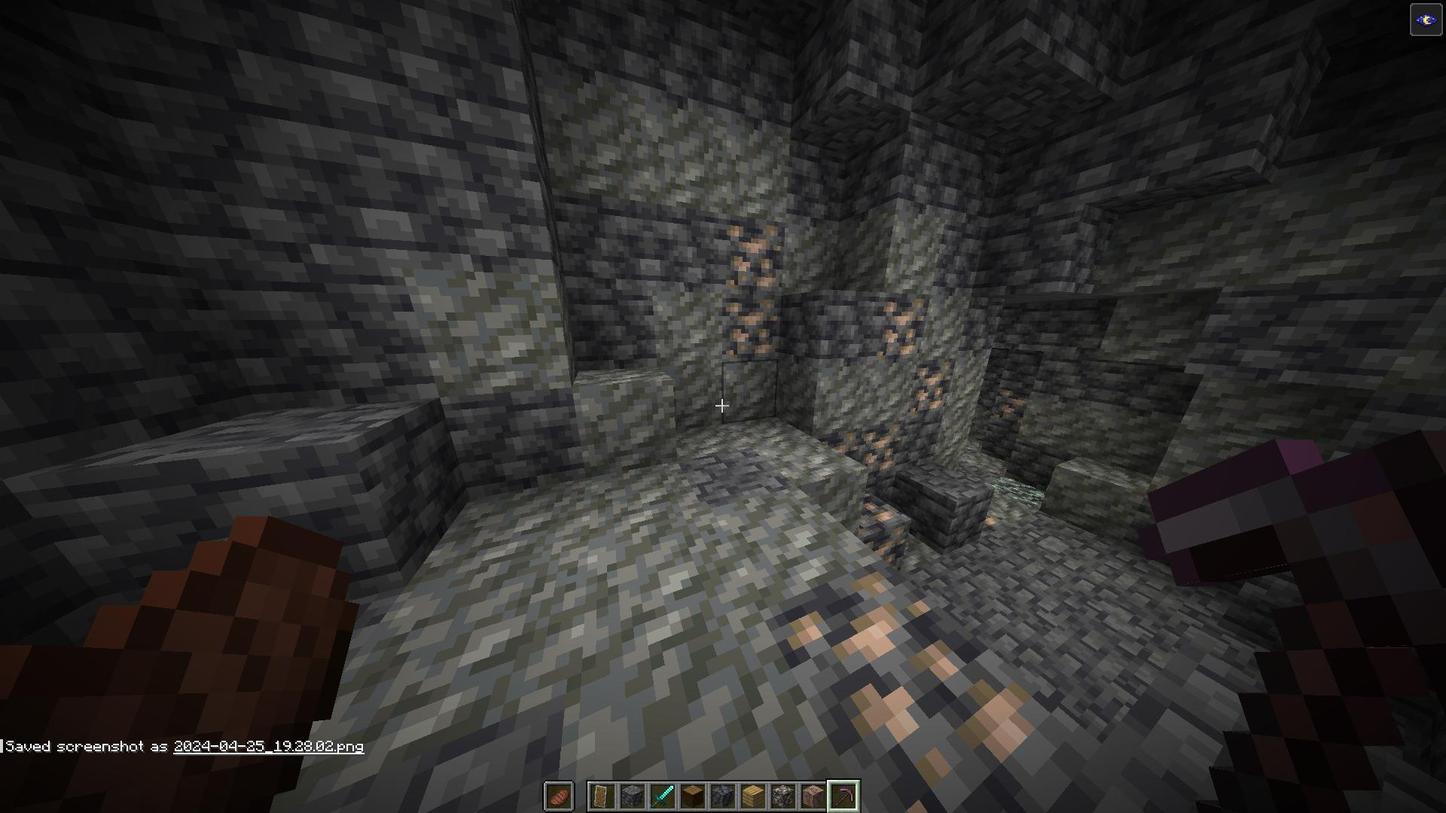iron ore: (775, 560, 1043, 809), (860, 490, 914, 571), (729, 218, 782, 292), (722, 289, 778, 358), (882, 298, 921, 354), (912, 362, 950, 412), (862, 424, 901, 462), (993, 386, 1032, 423)
